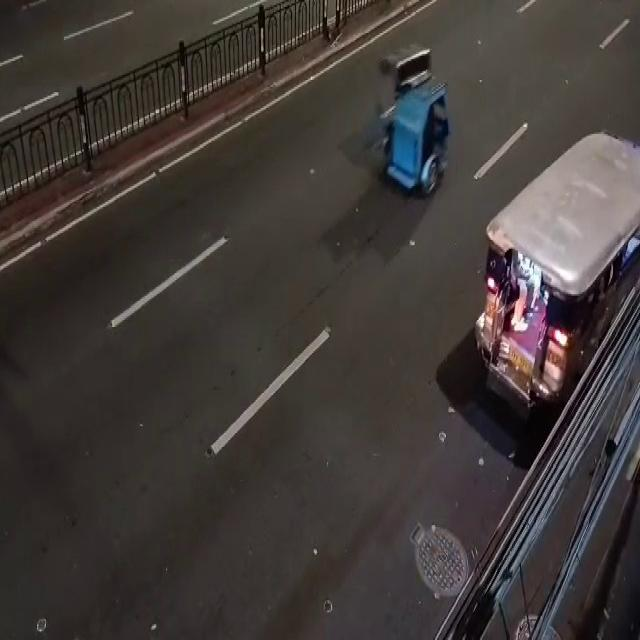jeepney: (486, 103, 640, 420)
motorcycle: (375, 48, 452, 198)
